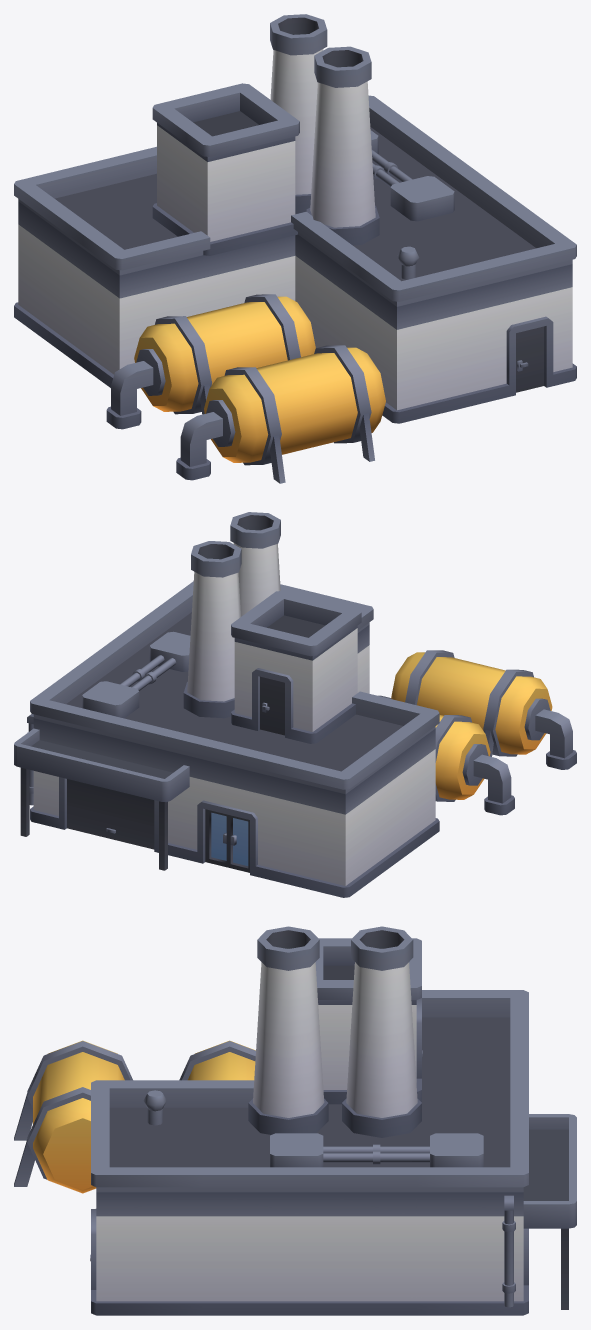
Rendered from kenney-city-industrial-building-c.glb.
3 renders of one model, top to bottom at view 1: azimuth 30°, elevation 25°; view 2: azimuth 150°, elevation 25°; view 3: azimuth 270°, elevation 25°, orthographic. The views are drawn at different scales.
Parts seen in each view (by area): view 1: building-c; view 2: building-c; view 3: building-c.
Boxes of the visible parts, x1=… form: building-c: x1=14, y1=14, x2=576, y2=483; building-c: x1=14, y1=512, x2=576, y2=897; building-c: x1=14, y1=926, x2=576, y2=1315.
Size of the model in its own units: 1.88 by 1.25 by 2.11.
1 material, 1 textured.
